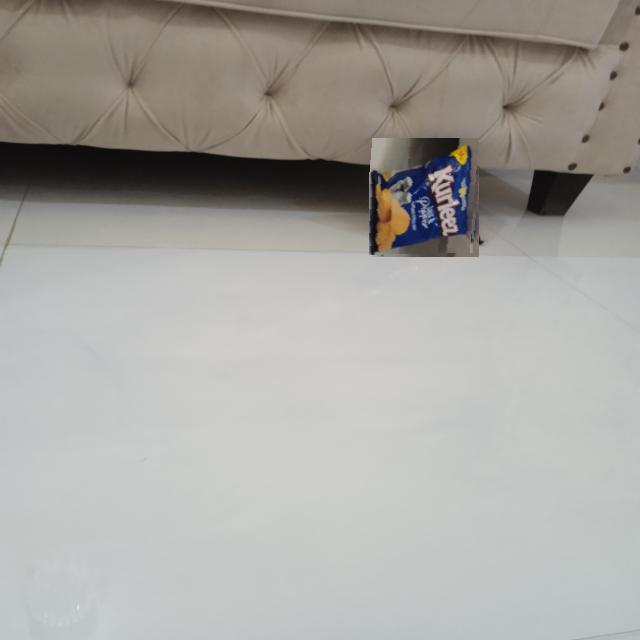Plastic: (369, 141, 482, 255)
